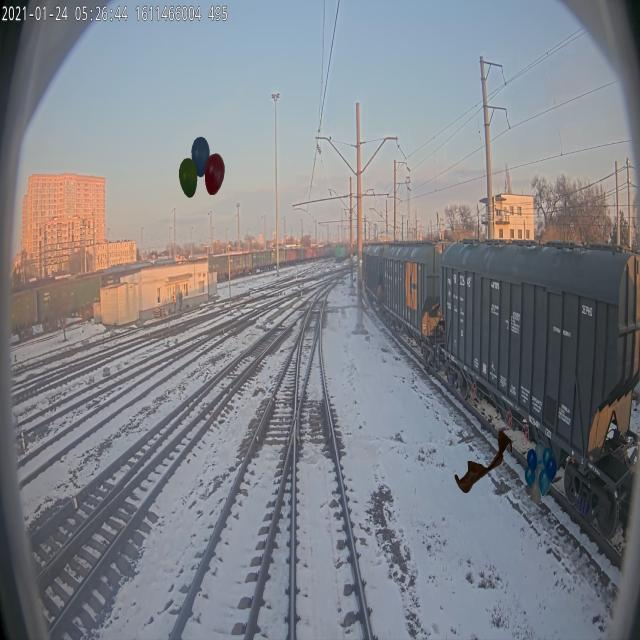balloon: (179, 135, 225, 199), (525, 442, 557, 507)
floating object: (455, 429, 513, 494)
